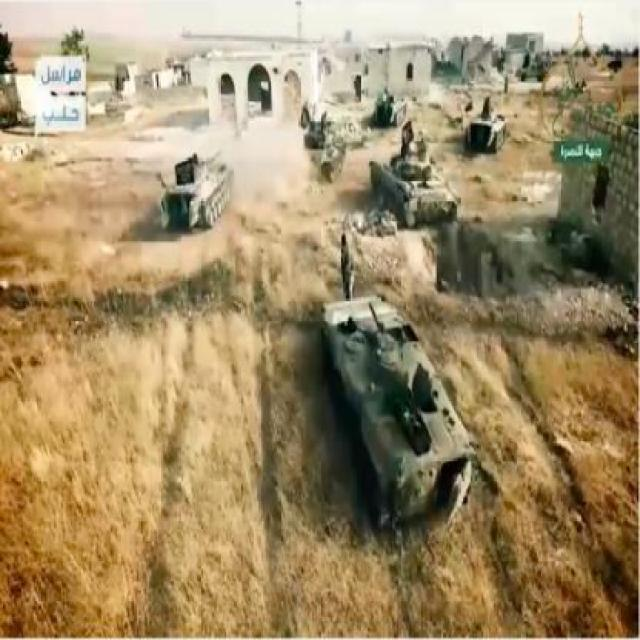Tanks: (319, 293, 475, 538), (370, 122, 459, 240), (161, 151, 233, 232), (466, 96, 508, 156), (300, 102, 334, 148), (368, 92, 404, 125)
